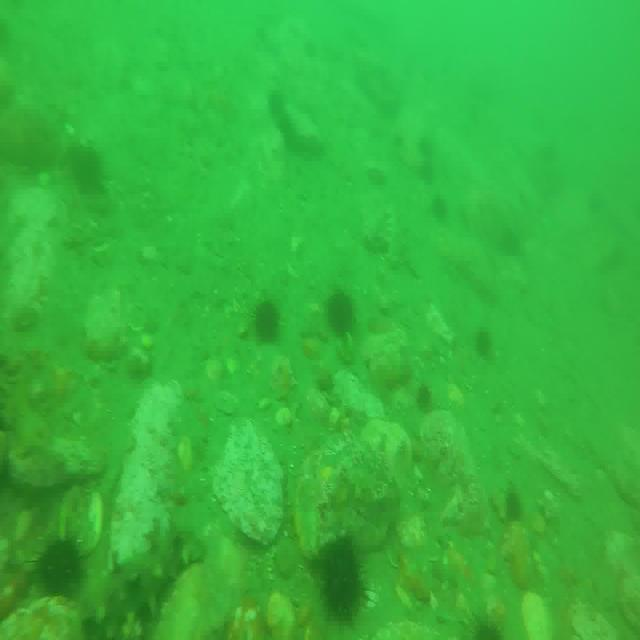echinus: (318, 540, 362, 622), (34, 529, 83, 597), (324, 289, 356, 342), (253, 302, 281, 346), (468, 617, 504, 640)
holothurian: (75, 535, 205, 640)
